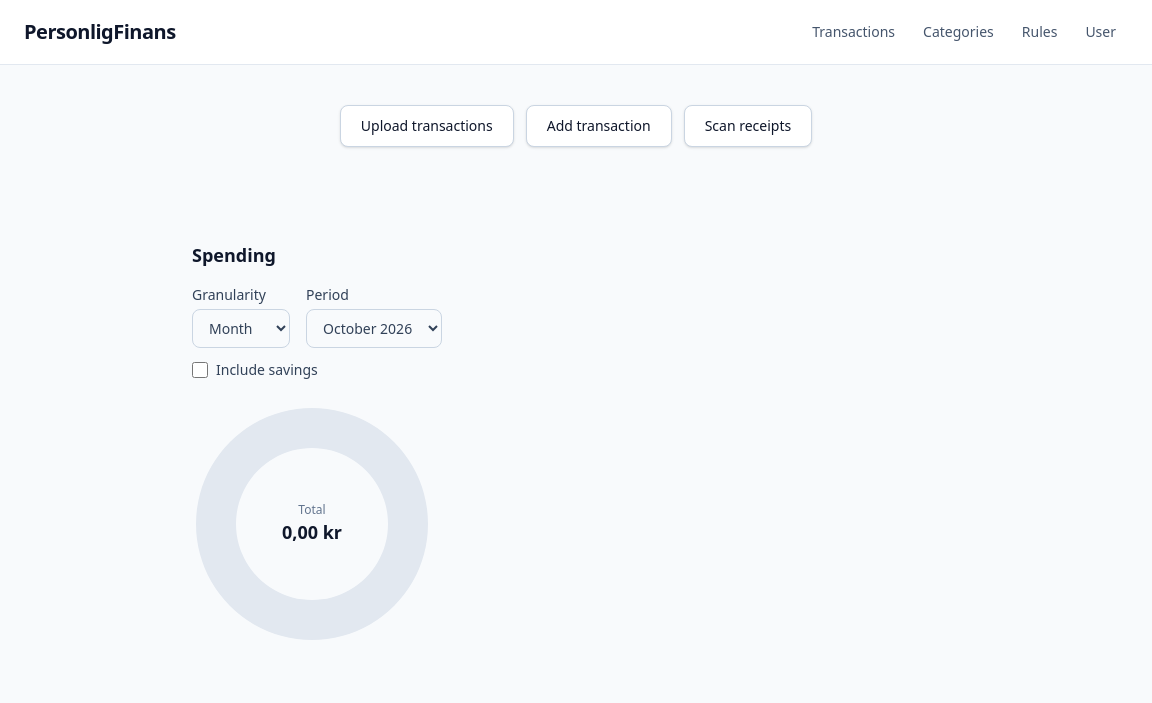
Scenario: App › posts the transaction with Out as a negative amount, then closes and confirms
The width and height of the screenshot is (1152, 703).
Expected: the navigation bar is shown, [800,16,1128,48]
Click the button "Add transaction": (599, 126) [526,105,672,147]
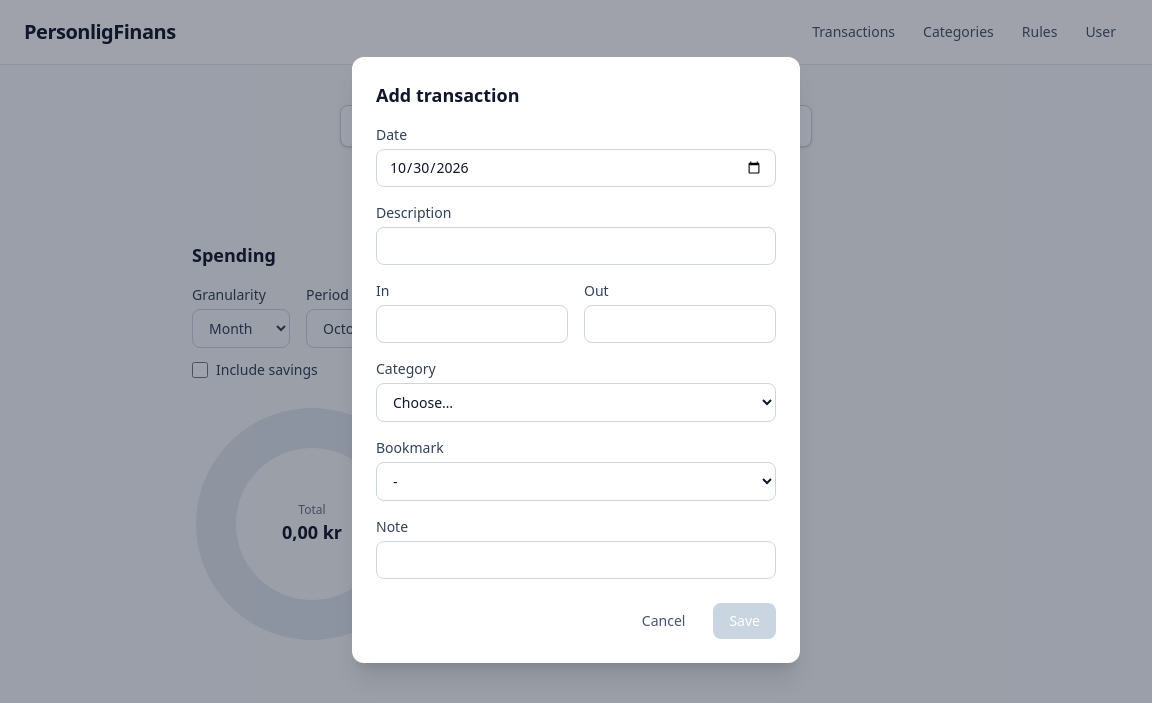
In the field labelled "Description": (576, 246) [376,227,776,265], type "Rema 1000"
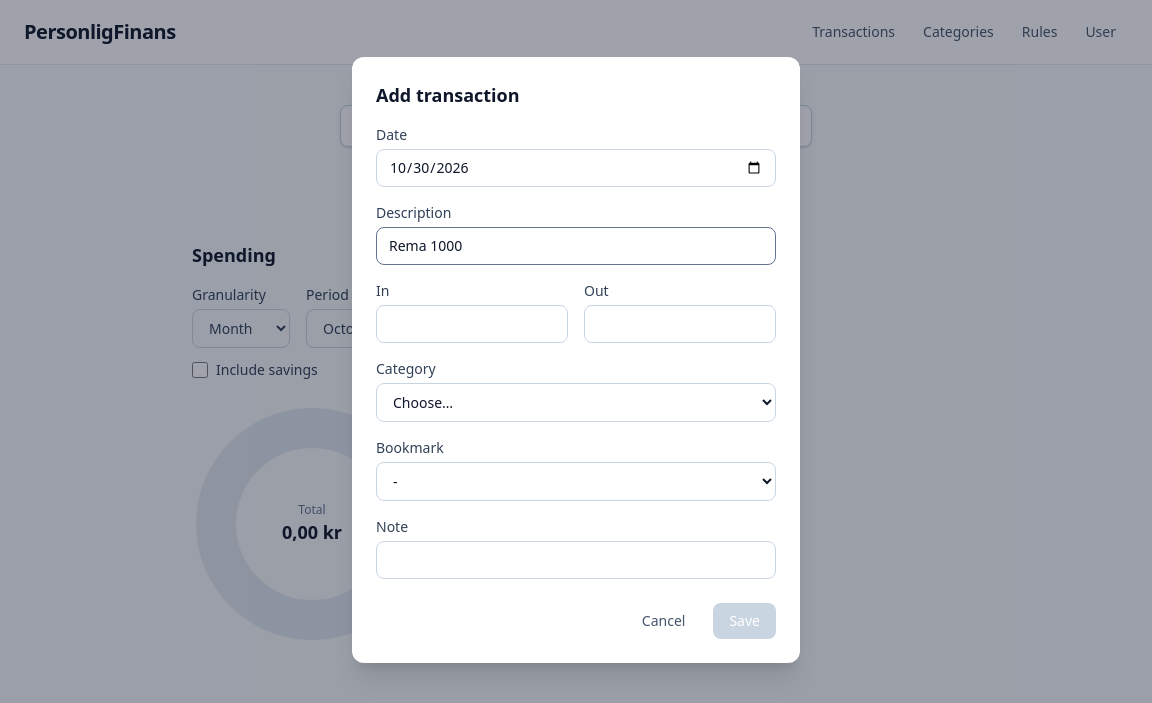
In the number field labelled "Out": (680, 324) [584,305,776,343], type "249.90"
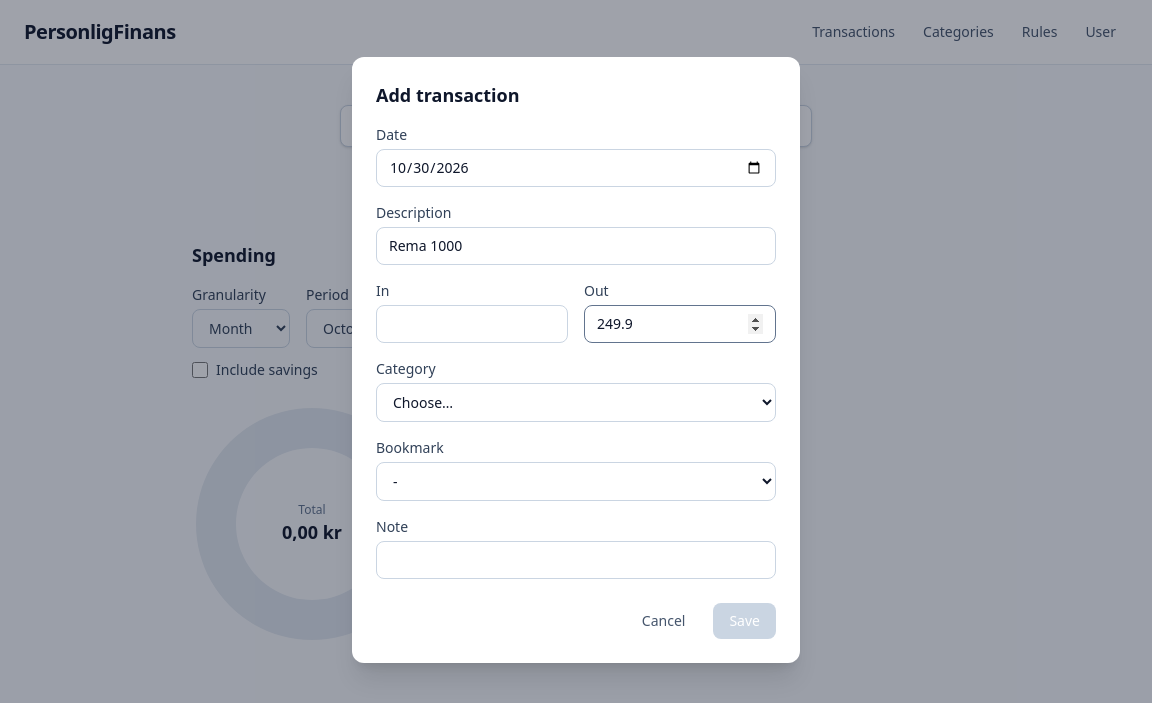
Select "Groceries" in the dropdown labelled "Category": (576, 402) [376,383,776,422]
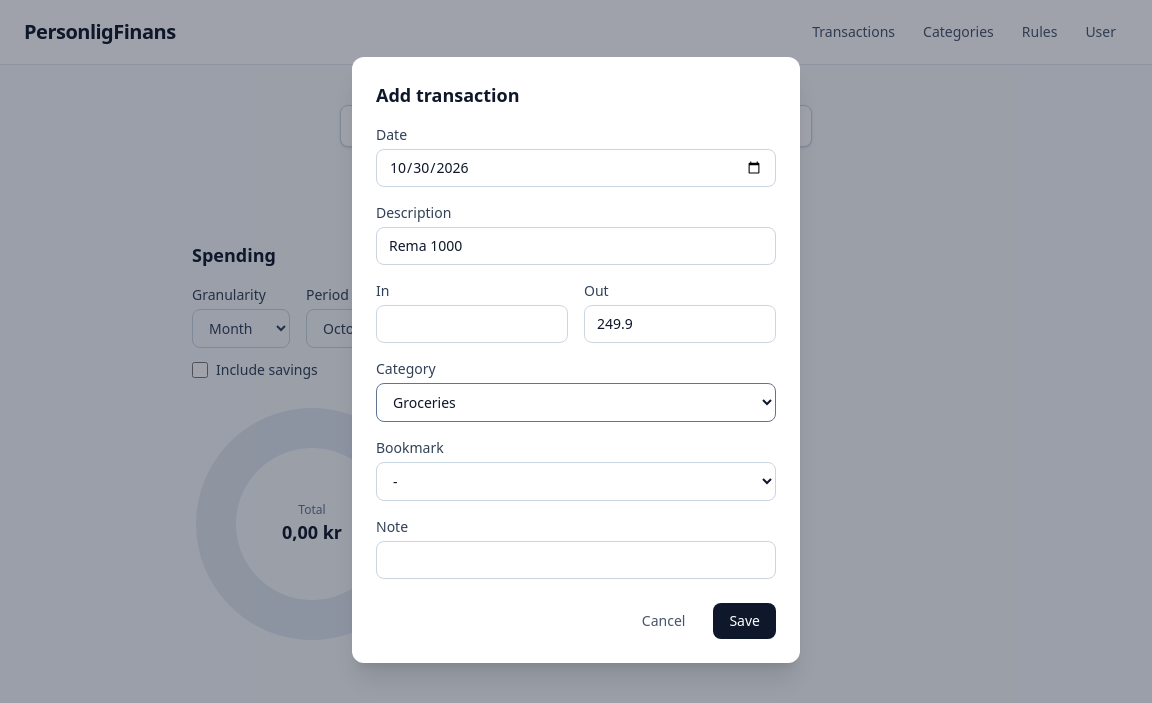
Click the button "Save": (745, 621) [713,603,776,639]
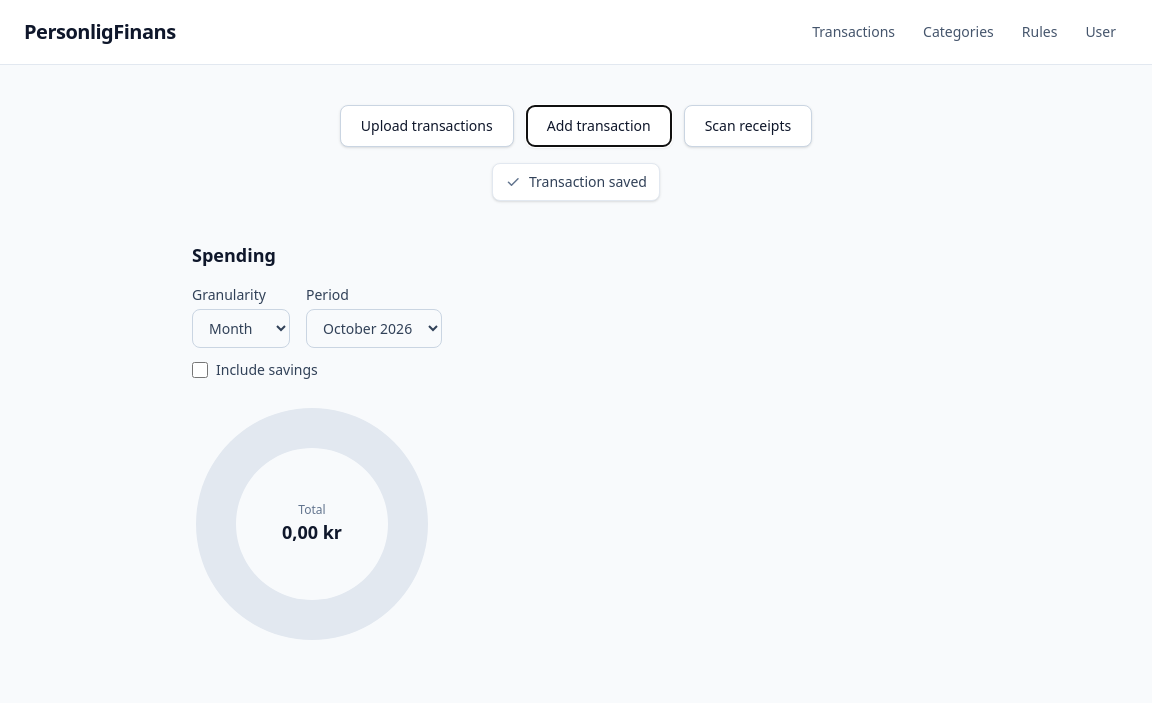
Expected: the dialog is gone
Expected: the message reads "Transaction saved", [529,172,647,191]
